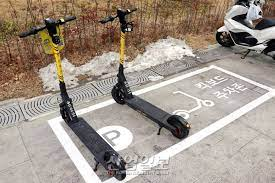kick_board: (99, 7, 192, 138)
kick_handler: (19, 16, 77, 37), (102, 8, 139, 22)
kick_neck: (52, 43, 70, 99), (120, 28, 128, 80)
kick_wheel: (105, 152, 127, 181), (168, 115, 190, 139), (112, 84, 127, 104), (59, 104, 73, 124)
